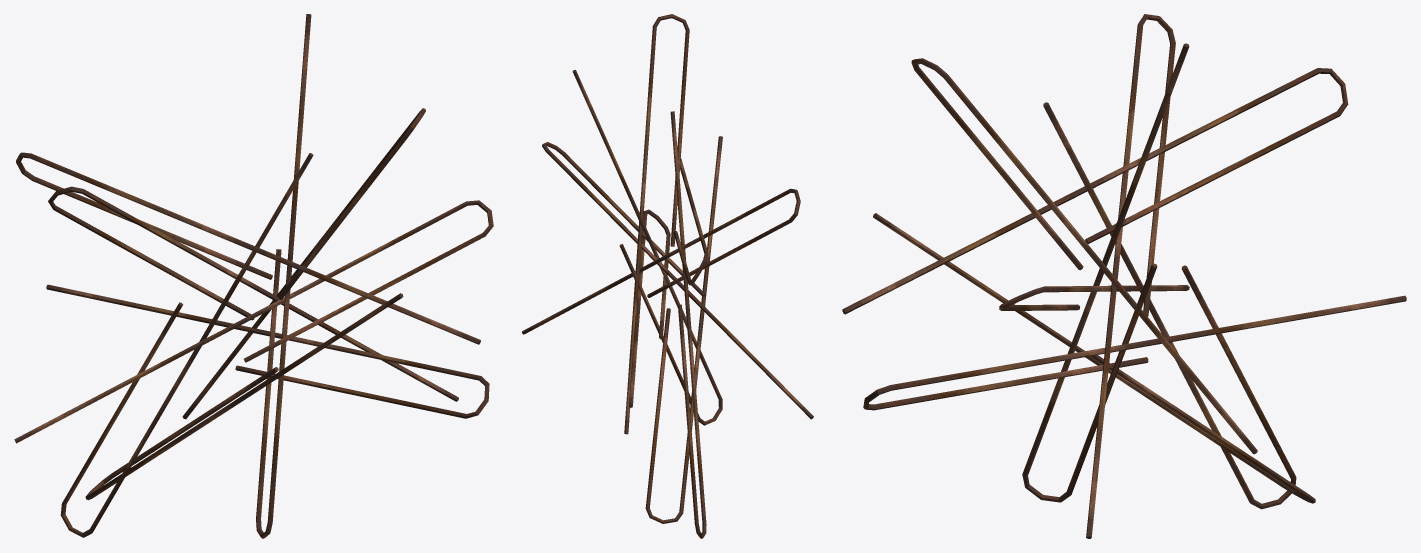
File: ALV-FIX-002_anim.glb
The picture shows the model from 3 angles, left to right: view 1: azimuth 30°, elevation 25°; view 2: azimuth 150°, elevation 25°; view 3: azimuth 270°, elevation 25°; orthographic projection. The views are drawn at different scales.
Visible parts, largest first — view 1: ALV-FIX-002_anim5, ALV-FIX-002_anim7, ALV-FIX-002_anim3, ALV-FIX-002_anim1, ALV-FIX-002_anim4, ALV-FIX-002_anim2, ALV-FIX-002_anim0, ALV-FIX-002_anim6; view 2: ALV-FIX-002_anim2, ALV-FIX-002_anim6, ALV-FIX-002_anim0, ALV-FIX-002_anim3, ALV-FIX-002_anim5, ALV-FIX-002_anim4, ALV-FIX-002_anim1, ALV-FIX-002_anim7; view 3: ALV-FIX-002_anim7, ALV-FIX-002_anim1, ALV-FIX-002_anim6, ALV-FIX-002_anim4, ALV-FIX-002_anim5, ALV-FIX-002_anim2, ALV-FIX-002_anim0, ALV-FIX-002_anim3.
Boxes of the visible parts, box(x1,y1,x2,y2) form: ALV-FIX-002_anim5: box(256, 14, 311, 538); ALV-FIX-002_anim7: box(16, 152, 480, 344); ALV-FIX-002_anim3: box(14, 200, 493, 443); ALV-FIX-002_anim1: box(46, 284, 489, 418); ALV-FIX-002_anim4: box(48, 186, 458, 401); ALV-FIX-002_anim2: box(60, 153, 313, 537); ALV-FIX-002_anim0: box(85, 293, 403, 500); ALV-FIX-002_anim6: box(182, 108, 425, 419); ALV-FIX-002_anim2: box(670, 111, 706, 538); ALV-FIX-002_anim6: box(624, 14, 689, 434); ALV-FIX-002_anim0: box(645, 136, 722, 523); ALV-FIX-002_anim3: box(542, 142, 813, 419); ALV-FIX-002_anim5: box(572, 70, 722, 425); ALV-FIX-002_anim4: box(522, 188, 800, 334); ALV-FIX-002_anim1: box(629, 209, 670, 407); ALV-FIX-002_anim7: box(673, 158, 708, 285); ALV-FIX-002_anim7: box(842, 68, 1348, 314); ALV-FIX-002_anim1: box(863, 295, 1406, 410); ALV-FIX-002_anim6: box(911, 58, 1257, 454); ALV-FIX-002_anim4: box(1086, 14, 1175, 538); ALV-FIX-002_anim5: box(1022, 43, 1189, 502); ALV-FIX-002_anim2: box(1043, 102, 1296, 509); ALV-FIX-002_anim0: box(873, 213, 1315, 503); ALV-FIX-002_anim3: box(999, 285, 1189, 310).
Bounding box in the file's own units: 0.4468 × 0.5305 × 0.4743.
1 material, 1 textured.
